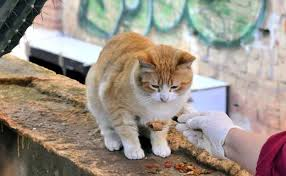cat: (79, 29, 198, 166)
